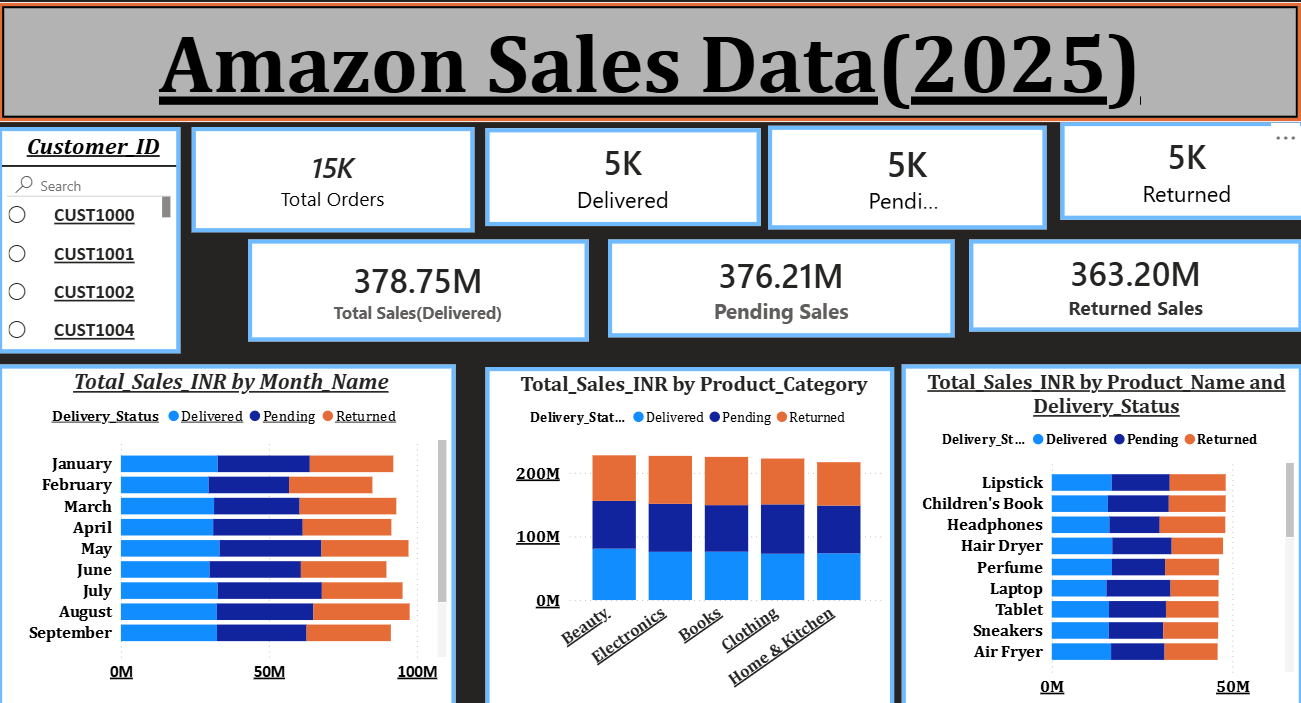

This screenshot's page, from the dashboard's own definition file:
{"tool":"powerbi","page":{"name":"Page 1","canvas":[1280,720],"ordinal":0},"visuals":[{"type":"cardVisual","fields":{"Data":["Measure Table.Total Orders"]},"box":[197.1,130,272.9,101.4],"z":0},{"type":"cardVisual","fields":{"Data":["Measure Table.Total Delivered"]},"box":[480,131.4,265.7,94.3],"z":1000},{"type":"cardVisual","fields":{"Data":["Measure Table.Total Pending"]},"box":[752.9,128.6,268.6,100],"z":2000},{"type":"cardVisual","fields":{"Data":["Measure Table.Total Return"]},"box":[1035.7,125.7,244.3,94.3],"z":3000},{"type":"cardVisual","fields":{"Data":["Measure Table.Total Sales(Delivered)"]},"box":[251.4,238.6,328.6,98.6],"z":4000},{"type":"cardVisual","fields":{"Data":["Measure Table.Pending Sales"]},"box":[598.6,238.6,334.3,94.3],"z":5000},{"type":"cardVisual","fields":{"Data":["Measure Table.Returned Sales"]},"box":[947.1,238.6,321.4,88.6],"z":6000},{"type":"listSlicer","fields":{"Values":["amazon_sales_cleaned.Customer_ID"]},"box":[10,130,175.7,218.6],"z":7000},{"type":"barChart","title":" Total_Sales_INR by Product_Name and Delivery_Status","fields":{"Series":["amazon_sales_cleaned.Delivery_Status"],"Y":["Sum(amazon_sales_cleaned.Total_Sales_INR)"],"Category":["amazon_sales_cleaned.Product_Name"]},"box":[881.4,360,387.1,332.9],"z":8000},{"type":"columnChart","title":"Total_Sales_INR by Product_Category","fields":{"Category":["amazon_sales_cleaned.Product_Category"],"Y":["Sum(amazon_sales_cleaned.Total_Sales_INR)"],"Series":["amazon_sales_cleaned.Delivery_Status"]},"box":[480,361.4,394.3,332.9],"z":9000},{"type":"barChart","title":" Total_Sales_INR by Month_Name","fields":{"Category":["amazon_sales_cleaned.Month_Name"],"Y":["Sum(amazon_sales_cleaned.Total_Sales_INR)"],"Series":["amazon_sales_cleaned.Delivery_Status"]},"box":[10,360,441.4,332.9],"z":10000},{"type":"shape","box":[10,10,1258.6,115.7],"z":11000}]}

Visuals, with their boxes on the page's 1280x720 design canvas (x1, y1, x2, y2). These are canvas units, not pixel positions in the 1301x703 screenshot, which may show the page scaled, cropped or inside an application window:
cardVisual - Measure Table.Total Orders: Rect(197, 130, 470, 231)
cardVisual - Measure Table.Total Delivered: Rect(480, 131, 746, 226)
cardVisual - Measure Table.Total Pending: Rect(753, 129, 1022, 229)
cardVisual - Measure Table.Total Return: Rect(1036, 126, 1280, 220)
cardVisual - Measure Table.Total Sales(Delivered): Rect(251, 239, 580, 337)
cardVisual - Measure Table.Pending Sales: Rect(599, 239, 933, 333)
cardVisual - Measure Table.Returned Sales: Rect(947, 239, 1268, 327)
listSlicer - amazon_sales_cleaned.Customer_ID: Rect(10, 130, 186, 349)
" Total_Sales_INR by Product_Name and Delivery_Status" barChart: Rect(881, 360, 1268, 693)
"Total_Sales_INR by Product_Category" columnChart: Rect(480, 361, 874, 694)
" Total_Sales_INR by Month_Name" barChart: Rect(10, 360, 451, 693)
shape: Rect(10, 10, 1269, 126)
